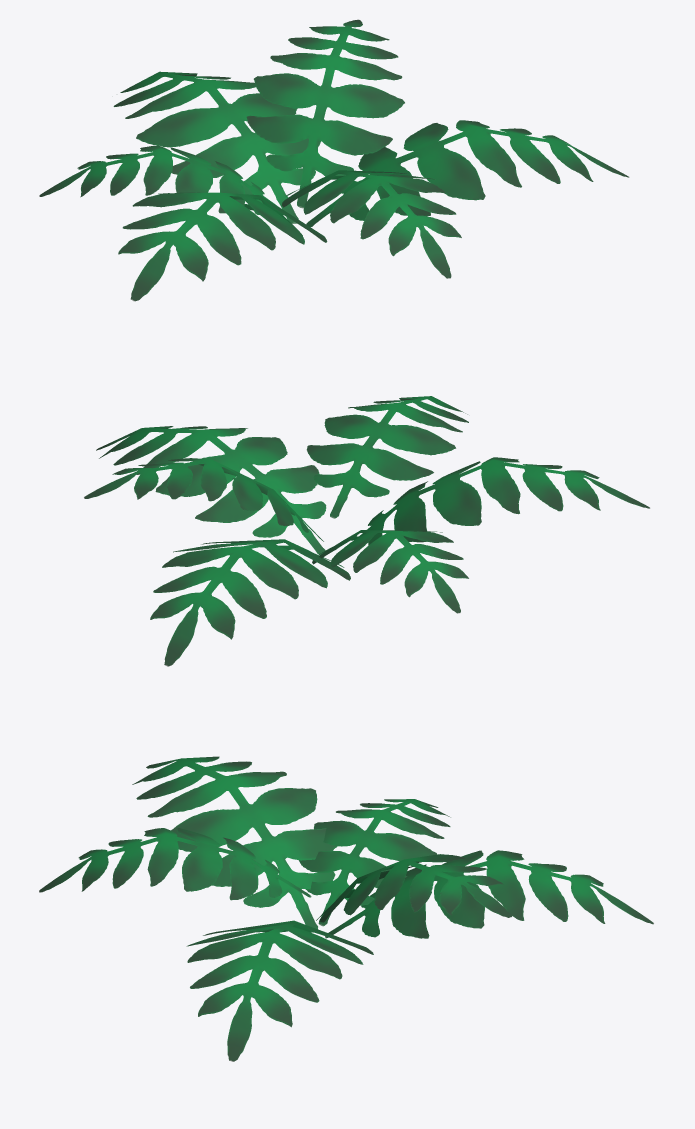
The model's file is Fern2.fbx.
3 renders of one model, top to bottom at view 1: azimuth 30°, elevation 25°; view 2: azimuth 150°, elevation 25°; view 3: azimuth 270°, elevation 25°, orthographic. The views are drawn at different scales.
Visible parts, largest first — view 1: polySurface441; view 2: polySurface441; view 3: polySurface441.
Part boxes in pixels (x1,y1,x2,y2): polySurface441: [39, 19, 629, 301]; polySurface441: [84, 396, 650, 666]; polySurface441: [39, 756, 653, 1061].
Size of the model in its own units: 1.88 by 0.4027 by 1.7.
